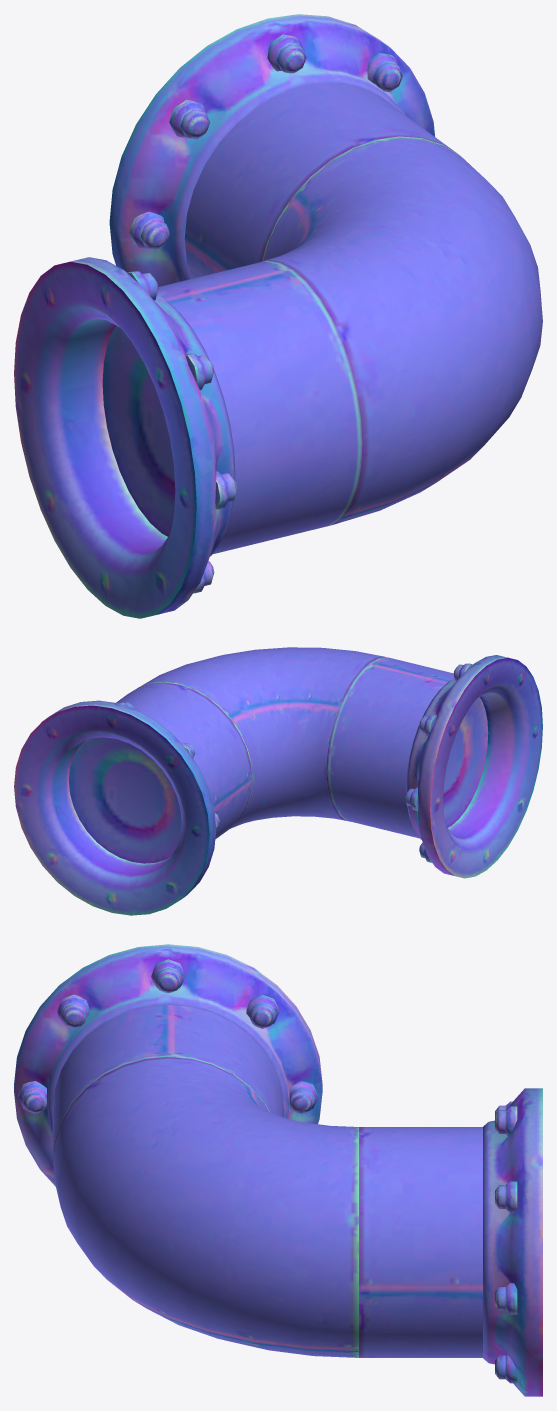
The model's file is Pipe_D160_A_Corner_A.fbx.
3 views of the same model, one above another, from view 1: azimuth 30°, elevation 25°; view 2: azimuth 150°, elevation 25°; view 3: azimuth 270°, elevation 25° (orthographic). The views are drawn at different scales.
Visible parts, largest first — view 1: Geom_Pipe_D160_A_Corner_A_LOD00; view 2: Geom_Pipe_D160_A_Corner_A_LOD00; view 3: Geom_Pipe_D160_A_Corner_A_LOD00.
Boxes of the visible parts, x1,y1,x2,y2 form: Geom_Pipe_D160_A_Corner_A_LOD00: [14, 14, 542, 618]; Geom_Pipe_D160_A_Corner_A_LOD00: [14, 647, 542, 915]; Geom_Pipe_D160_A_Corner_A_LOD00: [14, 944, 542, 1396].
Size of what is drawn, in the model's own units: 282 by 282 by 165.
